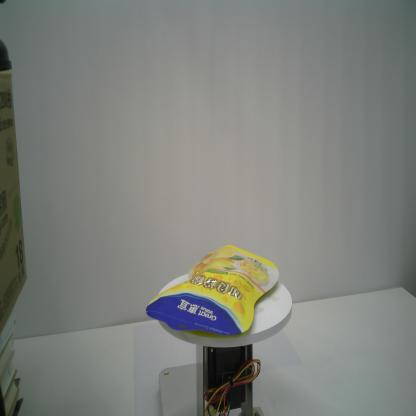Dried Fruit: (144, 242, 279, 338)
